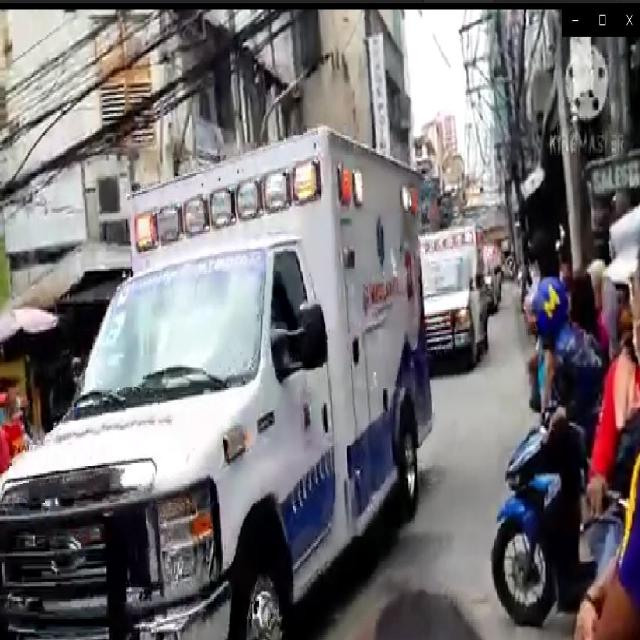emergency: (0, 130, 441, 640), (399, 220, 492, 387)
